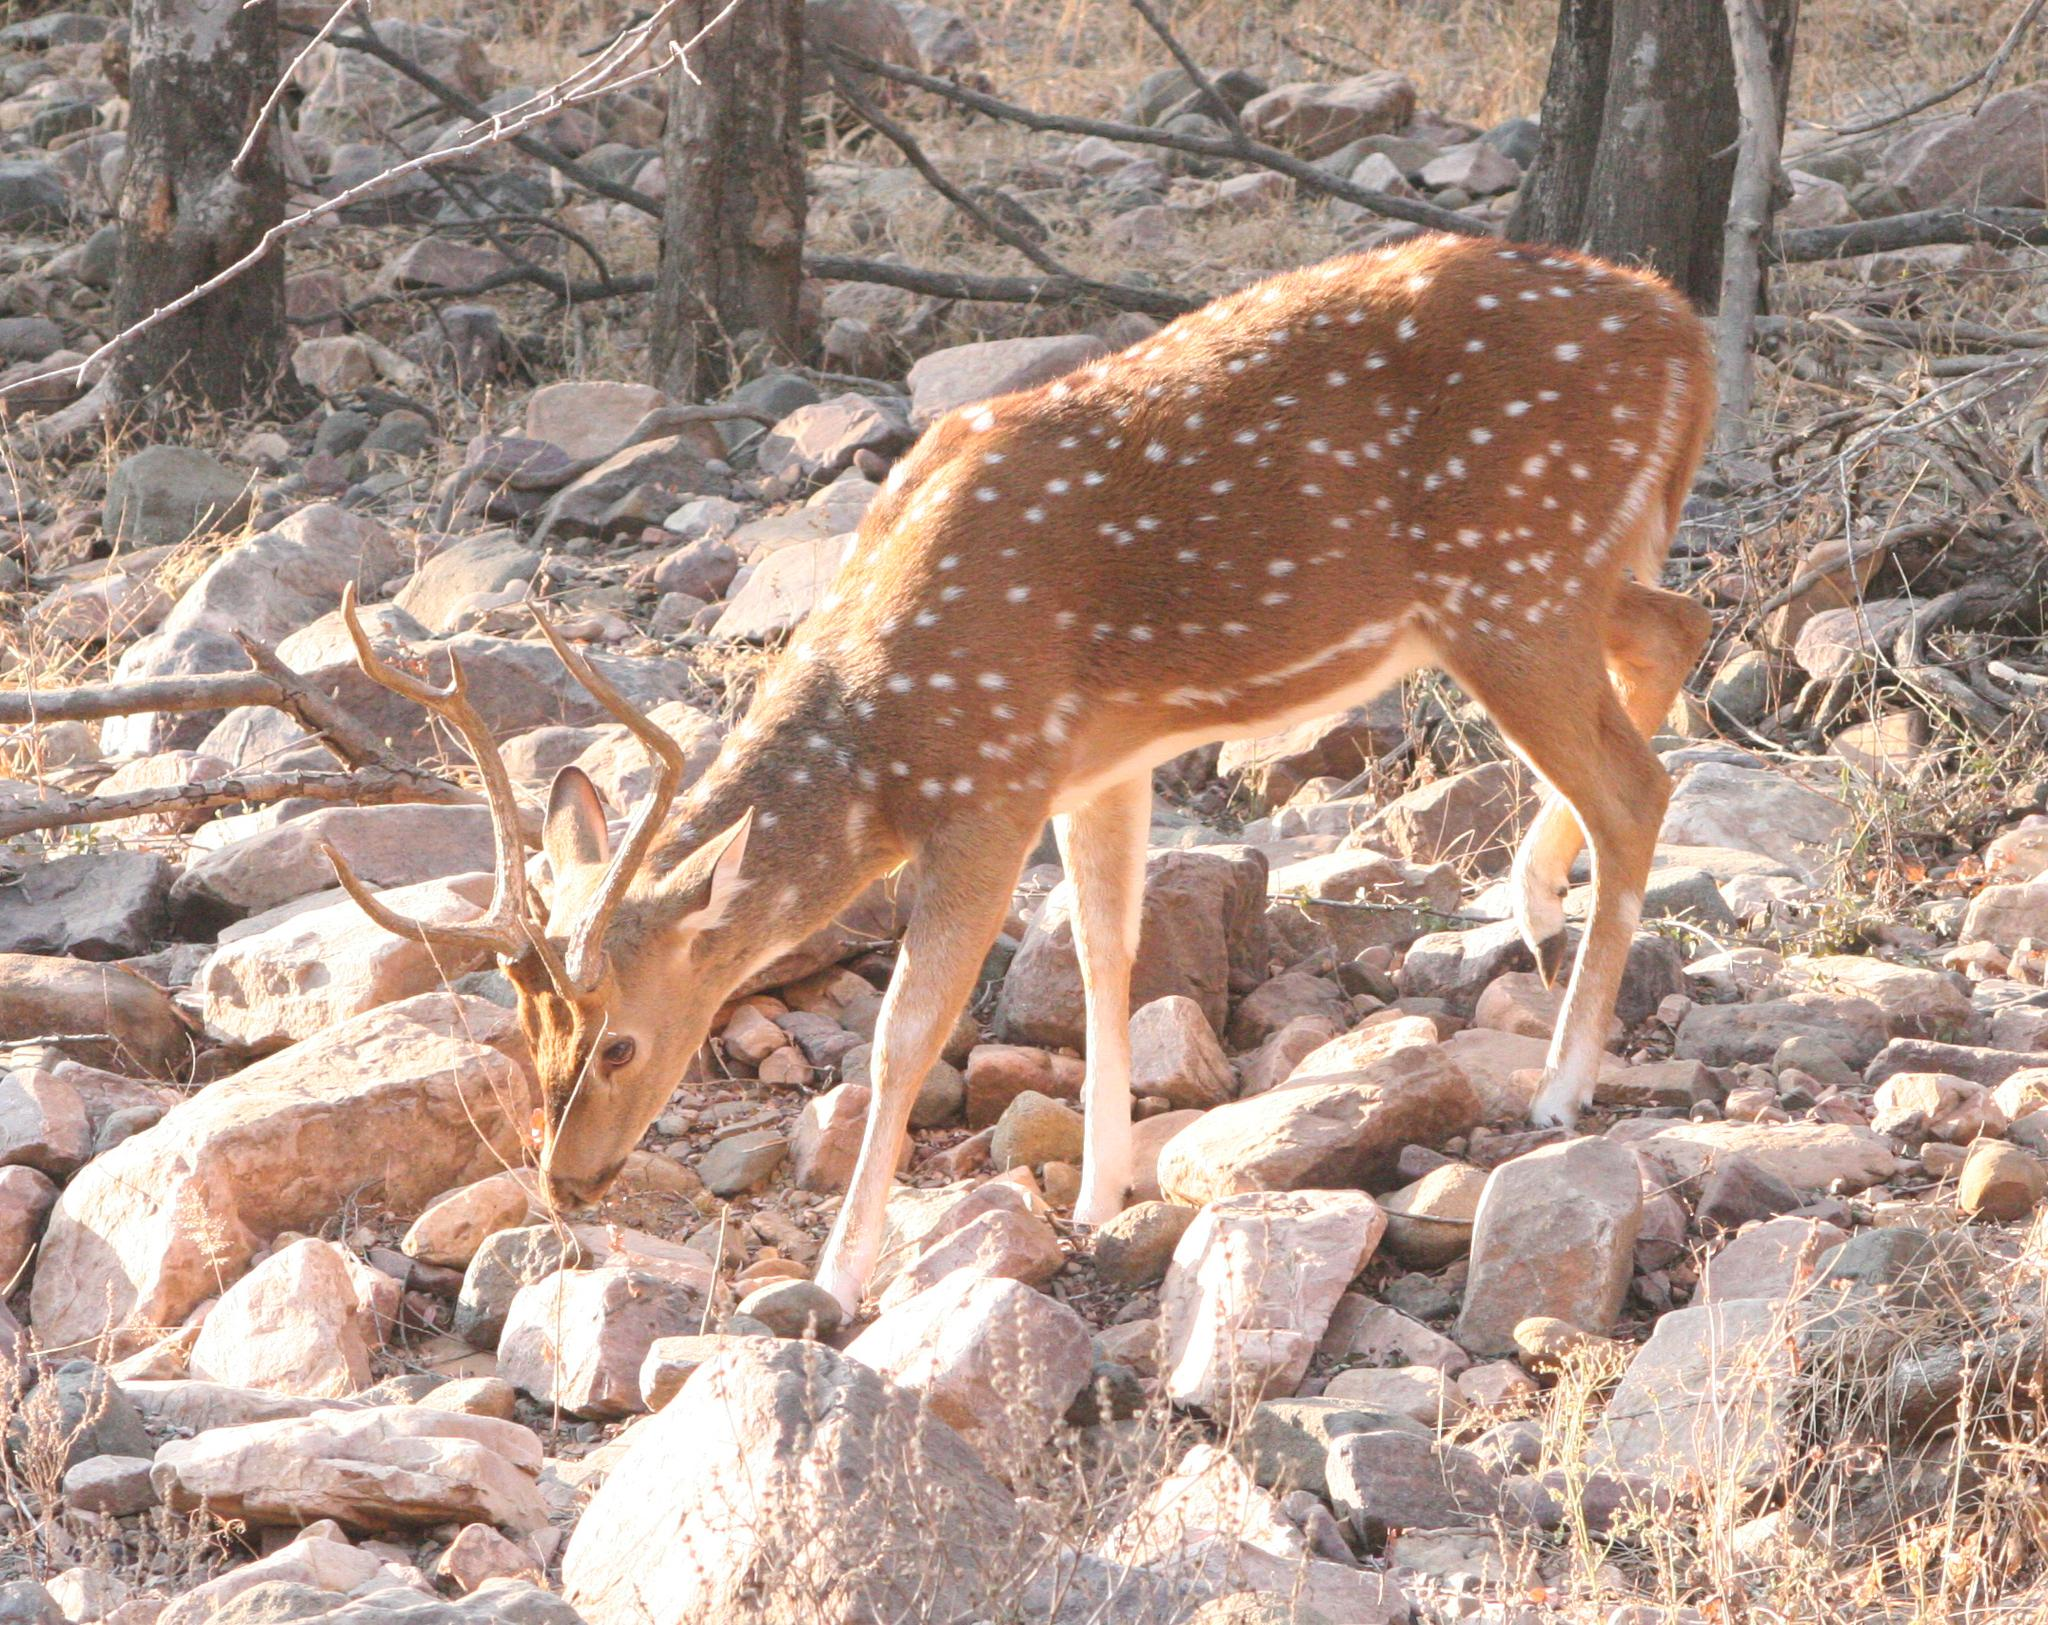Deer: (329, 236, 1714, 1306)
